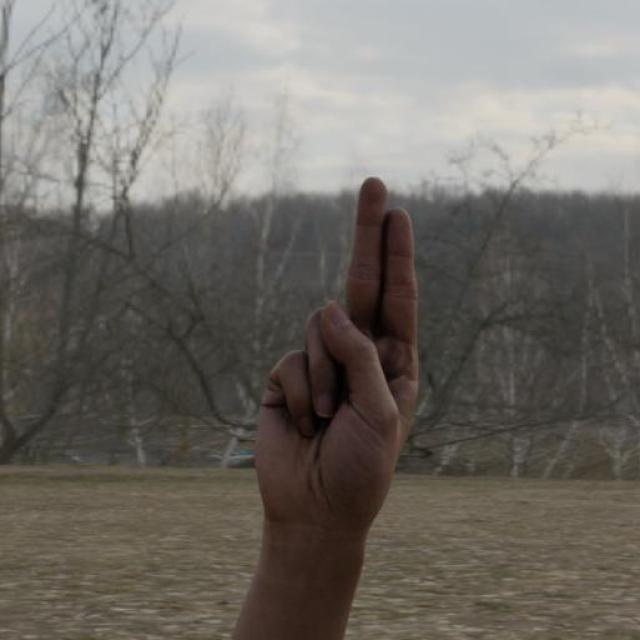U: (247, 170, 422, 540)
